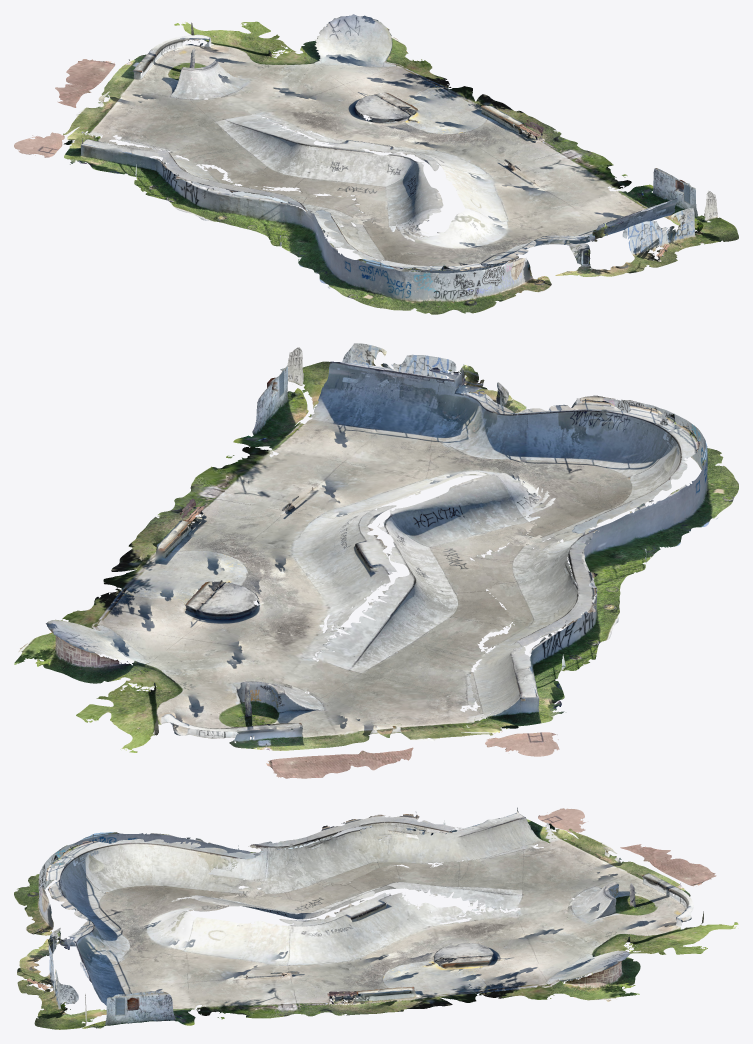
Rendered from skate_park.glb.
3 views of the same model, one above another, from view 1: azimuth 30°, elevation 25°; view 2: azimuth 150°, elevation 25°; view 3: azimuth 270°, elevation 25° (orthographic). The views are drawn at different scales.
Visible parts, largest first — view 1: Object_2, Object_3, Object_6, Object_5, Object_4, Object_7, Object_8; view 2: Object_2, Object_3, Object_4, Object_6, Object_5, Object_8, Object_7; view 3: Object_2, Object_6, Object_3, Object_5, Object_4, Object_7, Object_8, Object_12, Object_9.
Part boxes in pixels (<box>): Object_2: <box>68,22,699,310</box>; Object_3: <box>55,14,706,298</box>; Object_6: <box>14,14,721,313</box>; Object_5: <box>76,15,734,314</box>; Object_4: <box>67,16,738,310</box>; Object_7: <box>70,18,705,282</box>; Object_8: <box>20,15,701,303</box>; Object_2: <box>37,356,737,750</box>; Object_3: <box>48,348,733,770</box>; Object_4: <box>22,343,700,749</box>; Object_6: <box>14,348,738,778</box>; Object_5: <box>35,345,723,768</box>; Object_8: <box>18,355,661,767</box>; Object_7: <box>70,364,671,744</box>; Object_2: <box>20,815,733,1026</box>; Object_6: <box>16,808,716,1028</box>; Object_3: <box>36,807,710,1020</box>; Object_5: <box>14,818,707,1029</box>; Object_4: <box>19,809,691,1029</box>; Object_7: <box>28,816,703,1028</box>; Object_8: <box>28,808,679,1019</box>; Object_12: <box>52,818,706,1022</box>; Object_9: <box>28,814,640,1027</box>.
Bounding box in the file's own units: 27.32 × 2.36 × 37.85.
Materials: 12 (12 with a texture image).
